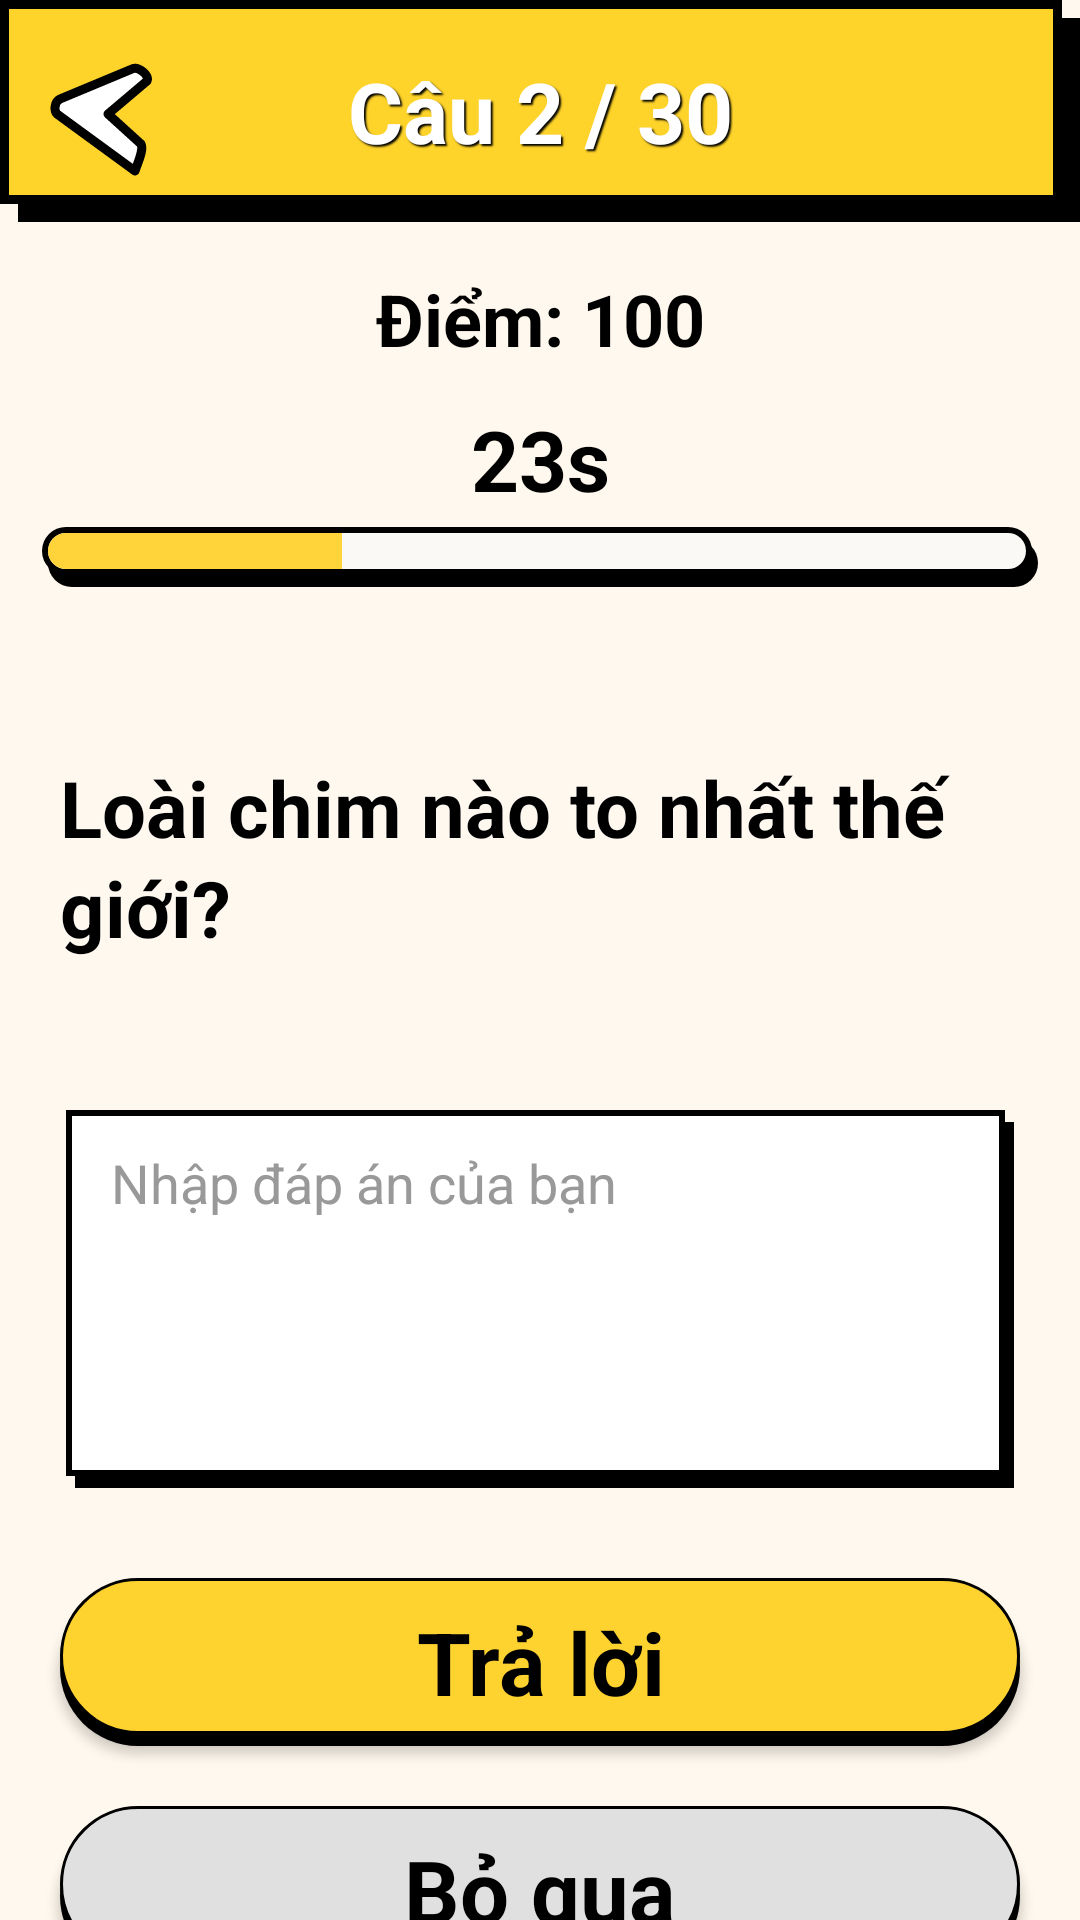

Icon bounding boxes for this 1080 × 1920 phone screenshot, format BBox(x1, y1, x2, y2):
back arrow: BBox(50, 63, 152, 176)
